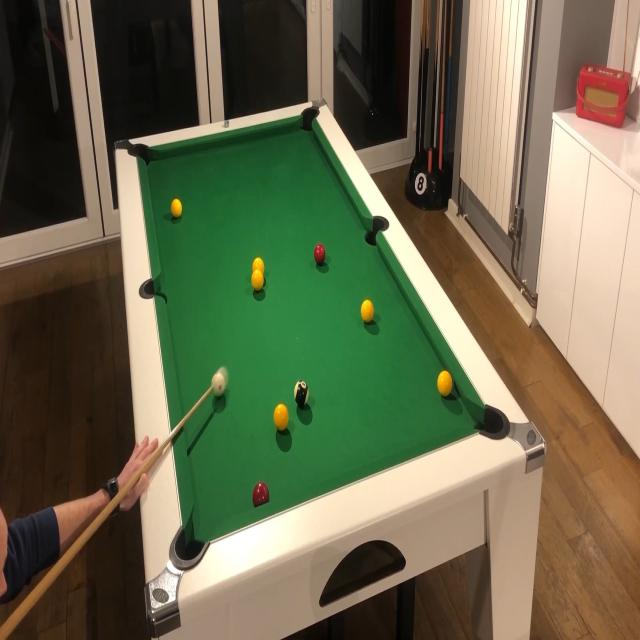Ball: (211, 368, 228, 398), (274, 404, 289, 432), (294, 381, 309, 407), (252, 484, 269, 506), (438, 371, 452, 397), (361, 300, 374, 324), (251, 270, 264, 292), (314, 243, 325, 265), (171, 198, 182, 219), (252, 258, 264, 275)
Billiard table: (113, 98, 545, 636)
